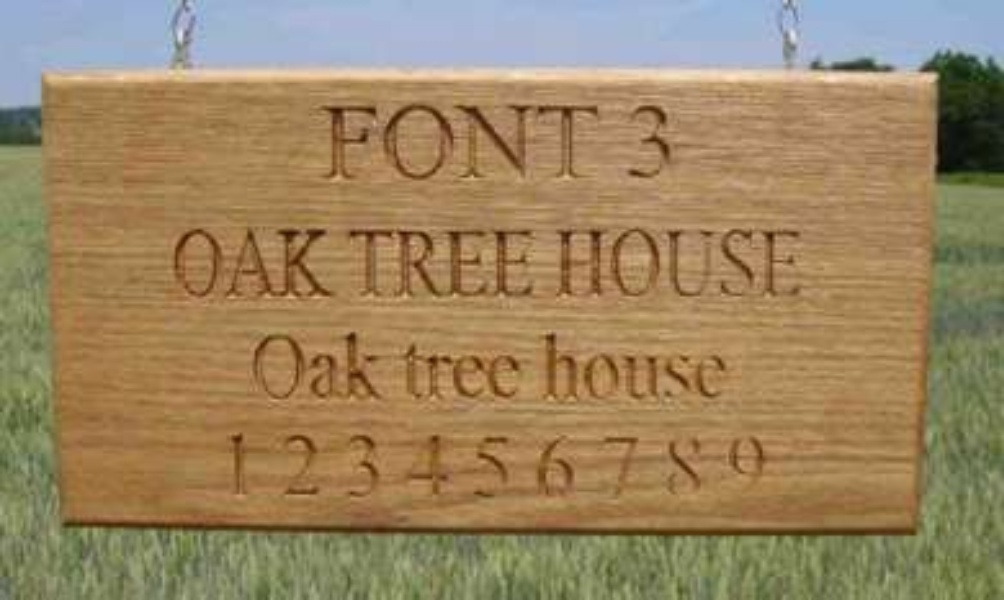text: (321, 101, 336, 183), (337, 101, 352, 183), (353, 101, 368, 183), (369, 101, 384, 183), (385, 101, 400, 183), (401, 101, 416, 183), (417, 101, 432, 183), (433, 101, 448, 183), (449, 101, 464, 183), (465, 101, 480, 183), (481, 101, 496, 183), (497, 101, 512, 183), (513, 101, 528, 183), (529, 101, 544, 183), (545, 101, 560, 183), (561, 101, 576, 183), (577, 101, 592, 183), (641, 101, 656, 181), (657, 101, 672, 181), (257, 330, 272, 405), (273, 330, 288, 405), (289, 330, 304, 405), (305, 330, 320, 405), (321, 330, 336, 405), (337, 330, 352, 405), (353, 330, 368, 405), (369, 330, 384, 405), (545, 330, 560, 402), (561, 330, 576, 402), (577, 330, 592, 402), (593, 330, 608, 402), (609, 330, 624, 402), (625, 330, 640, 402), (641, 330, 656, 402), (657, 330, 672, 402), (673, 330, 688, 402), (689, 330, 704, 402), (705, 330, 720, 402), (177, 227, 192, 299), (193, 227, 208, 299), (209, 227, 224, 299), (225, 227, 240, 299), (241, 227, 256, 299), (257, 227, 272, 299), (273, 227, 288, 299), (289, 227, 304, 299), (305, 227, 320, 299), (321, 227, 336, 299), (561, 227, 576, 299), (577, 227, 592, 299), (593, 227, 608, 299), (609, 227, 624, 299), (625, 227, 640, 299), (641, 227, 656, 299), (657, 227, 672, 299), (673, 227, 688, 299), (689, 227, 704, 299), (705, 227, 720, 299), (721, 227, 736, 299), (737, 227, 752, 299), (753, 227, 768, 299), (769, 227, 784, 299), (785, 227, 800, 299), (353, 230, 368, 299), (369, 230, 384, 299), (385, 230, 400, 299), (401, 230, 416, 299), (417, 230, 432, 299), (433, 230, 448, 299), (449, 230, 464, 299), (465, 230, 480, 299), (481, 230, 496, 299), (497, 230, 512, 299), (513, 230, 528, 299), (545, 431, 560, 500), (289, 433, 304, 500), (305, 433, 320, 500), (353, 433, 368, 500), (481, 436, 496, 503), (609, 436, 624, 503), (625, 436, 640, 503), (673, 433, 688, 500), (561, 431, 575, 500), (417, 433, 432, 497), (433, 433, 448, 497), (737, 433, 752, 497), (753, 433, 768, 497), (689, 433, 703, 500), (721, 330, 734, 402), (227, 431, 240, 500), (401, 343, 416, 402), (417, 343, 432, 402), (433, 343, 448, 402), (449, 343, 464, 402), (465, 343, 480, 402), (481, 343, 496, 402), (497, 343, 512, 402), (629, 101, 640, 181), (497, 436, 510, 503), (241, 431, 253, 500), (340, 433, 352, 500), (513, 343, 526, 402), (533, 431, 544, 500), (405, 433, 416, 497), (369, 433, 379, 500), (726, 433, 736, 497), (168, 227, 176, 299), (593, 101, 600, 183), (345, 230, 352, 299), (529, 230, 536, 299), (281, 433, 288, 500), (250, 330, 256, 405), (554, 227, 560, 299), (474, 436, 480, 503), (539, 330, 544, 402), (603, 436, 608, 503), (667, 433, 672, 500), (385, 330, 389, 405), (317, 101, 320, 183), (801, 227, 804, 299), (449, 433, 451, 497), (337, 227, 338, 299), (641, 436, 642, 503)
